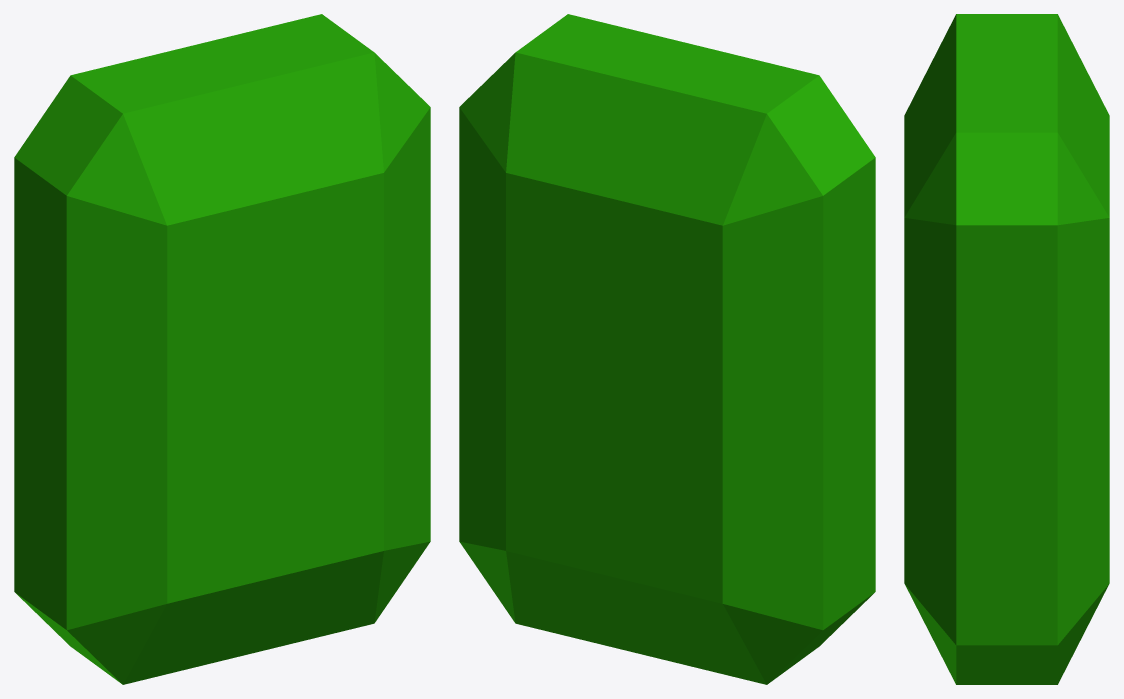
The model's file is Emerald.fbx.
3 views of the same model, side by side, from view 1: azimuth 30°, elevation 25°; view 2: azimuth 150°, elevation 25°; view 3: azimuth 270°, elevation 25° (orthographic). The views are drawn at different scales.
Visible parts, largest first — view 1: Emerald; view 2: Emerald; view 3: Emerald.
Part boxes in pixels (box(x1,y1,x2,y2)): Emerald: box(14, 14, 430, 684); Emerald: box(459, 14, 875, 684); Emerald: box(904, 14, 1109, 684).
Bounding box in the file's own units: 1 × 1.5 × 0.5051.
